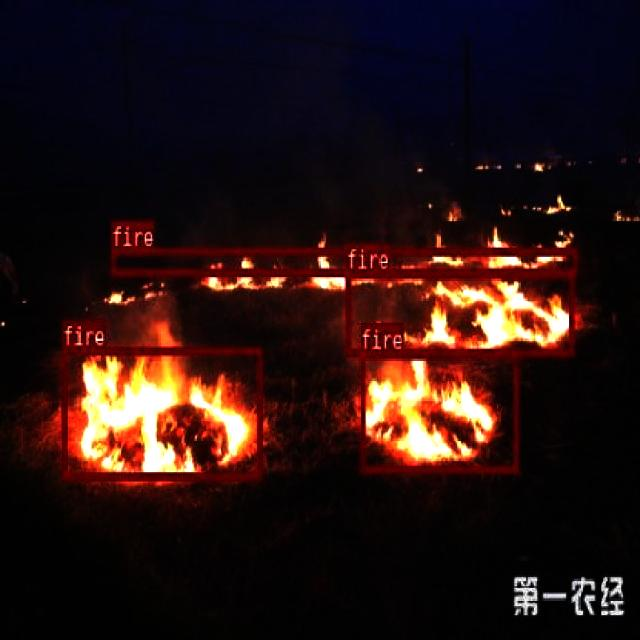fire: (61, 346, 262, 479), (345, 269, 573, 354), (360, 350, 518, 472), (110, 247, 578, 275)
